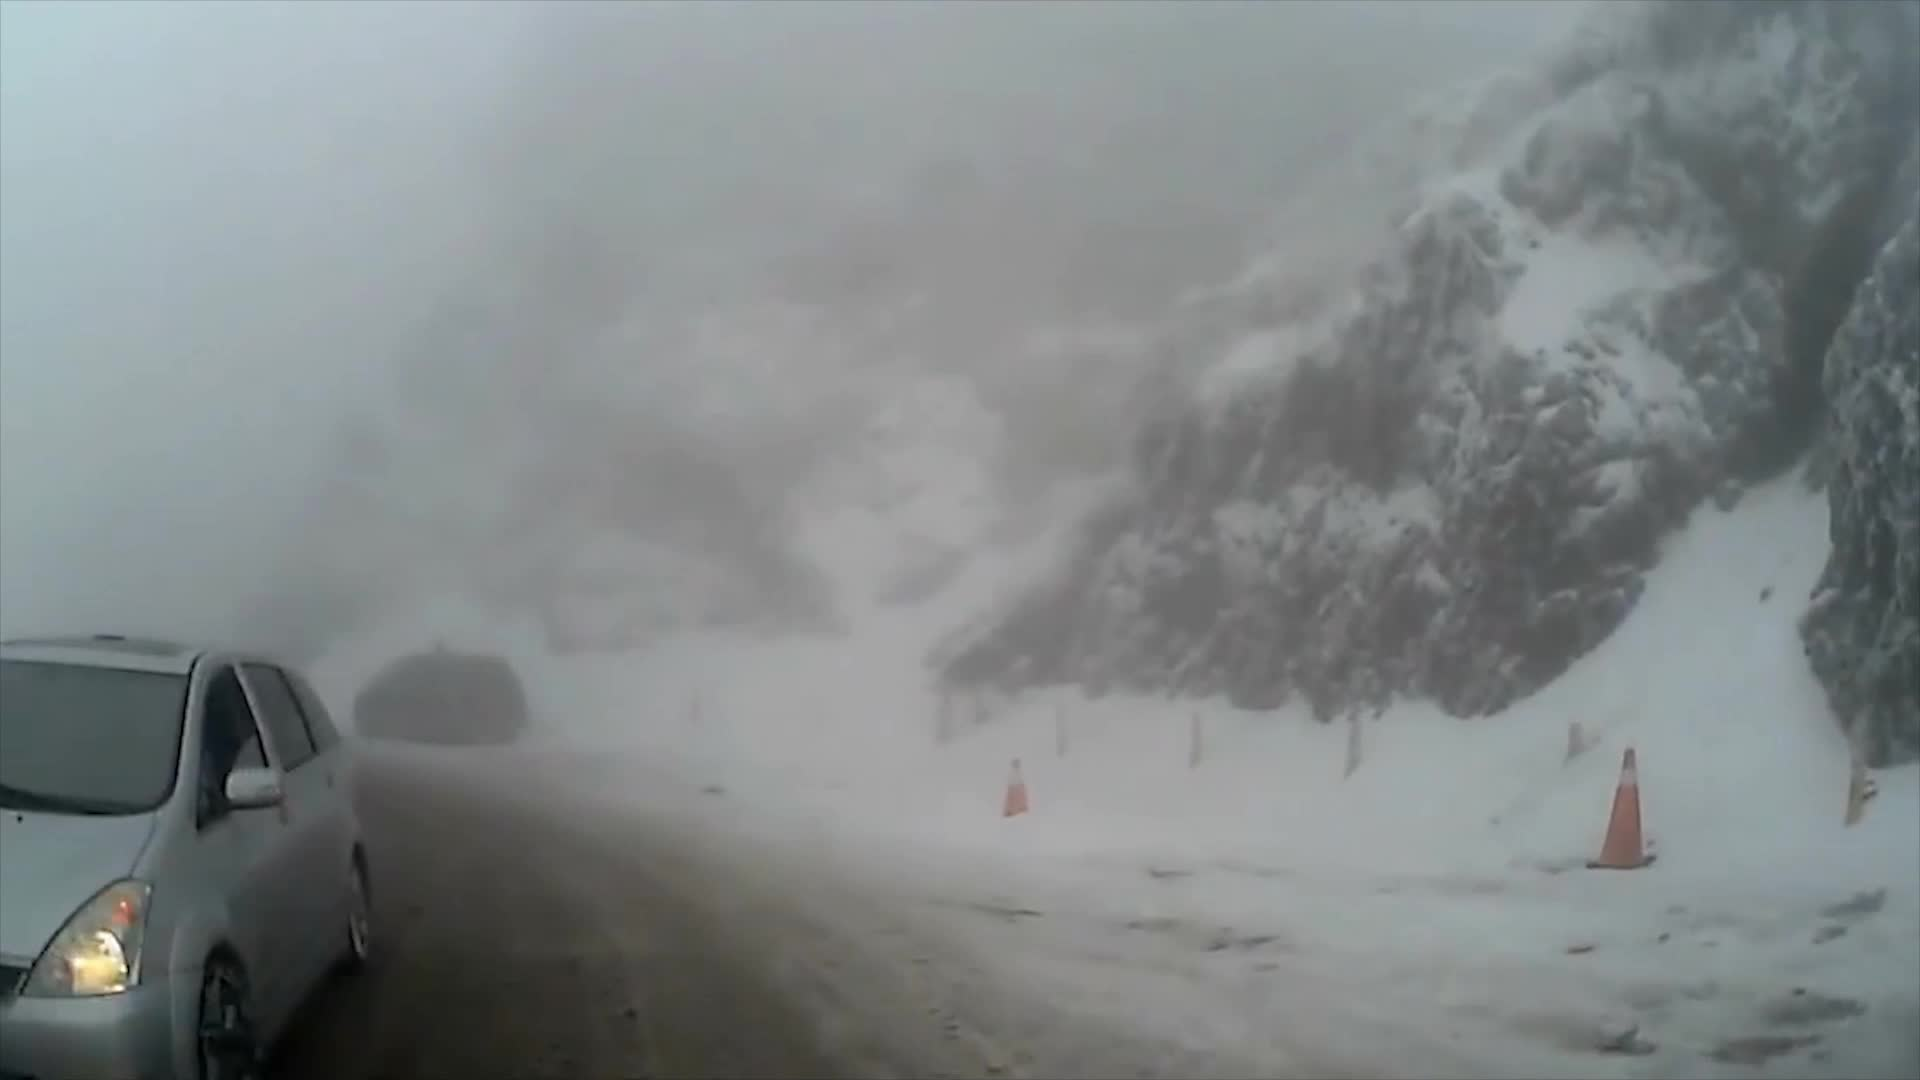vehicle: (0, 633, 378, 1080)
